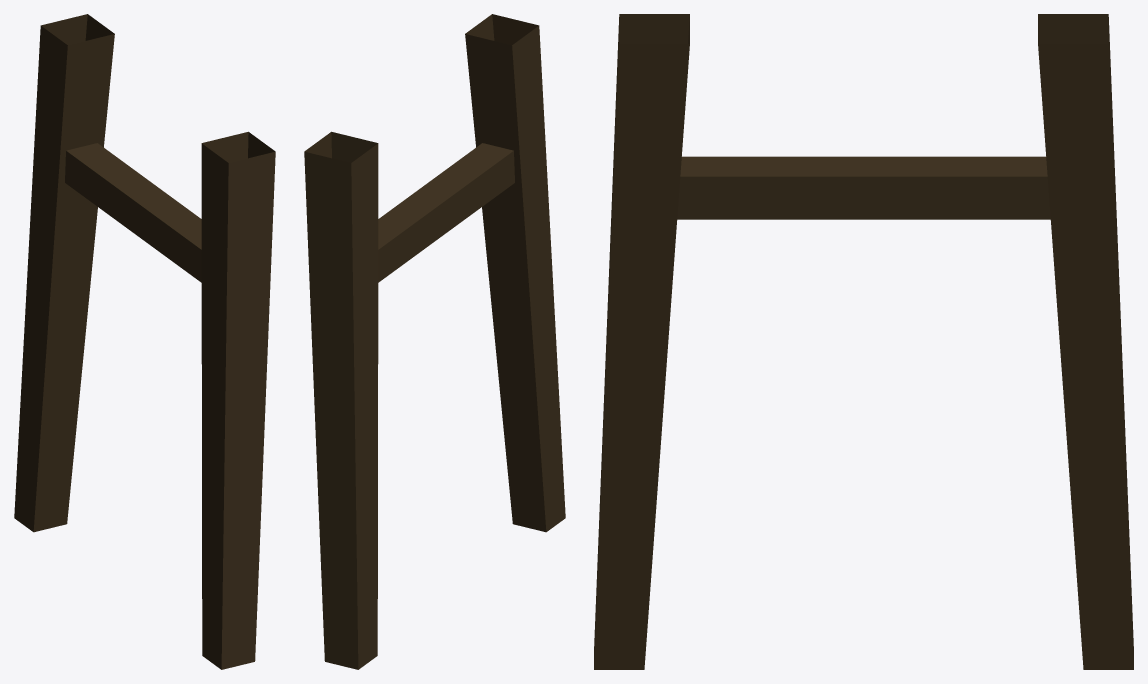
Rendered from Itr_Chair2_Leg_02.FBX.
3 renders of one model, left to right at view 1: azimuth 30°, elevation 25°; view 2: azimuth 150°, elevation 25°; view 3: azimuth 270°, elevation 25°, orthographic. The views are drawn at different scales.
Parts seen in each view (by area): view 1: Itr_Chair2_Leg_02; view 2: Itr_Chair2_Leg_02; view 3: Itr_Chair2_Leg_02.
Boxes of the visible parts, left/top/right/bottom form: Itr_Chair2_Leg_02: left=14, top=14, right=275, bottom=669; Itr_Chair2_Leg_02: left=304, top=14, right=565, bottom=669; Itr_Chair2_Leg_02: left=594, top=14, right=1133, bottom=669.
Size of the model in its own units: 2.2 by 16.33 by 12.38.
